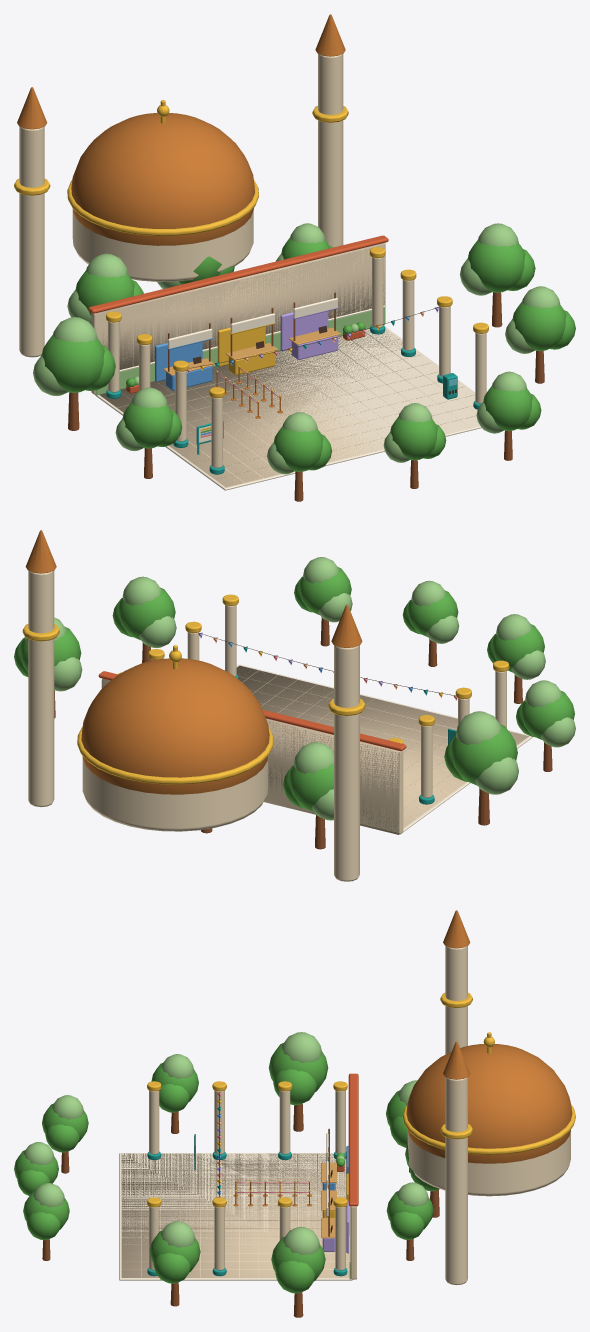
File: shas_foyer.glb
The picture shows the model from 3 angles, top to bottom: view 1: azimuth 30°, elevation 25°; view 2: azimuth 150°, elevation 25°; view 3: azimuth 270°, elevation 25°; orthographic projection. The views are drawn at different scales.
Visible parts, largest first — view 1: Dome.001, Floor.001, Floor-colonly.001, WallBack.001, WallBack-colonly.001, Minaret0.001, DomeDrum.001, Minaret1.001, Tree9Leaf0.007, WallBackCap, Tree7Leaf0.007, Tree6Leaf0.007 (+26 smaller); view 2: Dome.001, Floor-colonly.001, DomeDrum.001, Minaret1.001, Minaret0.001, WallBack.001, WallBack-colonly.001, Tree9Leaf0.007, DomeRing, Tree6Leaf0.007, Tree0Leaf0.007, Tree8Leaf0.007 (+26 smaller); view 3: Floor-colonly.001, Floor.001, Dome.001, DomeDrum.001, Minaret1.001, Minaret0.001, WallBackCap, DomeRing, Tree9Leaf0.007, Tree7Leaf2.007, Tree9Leaf2.007, Tree9Leaf3.007 (+29 smaller).
Boxes of the visible parts, x1,y1,x2,y2 form: Dome.001: [71, 113, 254, 245]; Floor.001: [95, 326, 481, 490]; Floor-colonly.001: [99, 329, 404, 487]; WallBack.001: [91, 243, 385, 394]; WallBack-colonly.001: [95, 243, 384, 395]; Minaret0.001: [19, 126, 44, 357]; DomeDrum.001: [72, 209, 253, 281]; Minaret1.001: [318, 54, 343, 247]; Tree9Leaf0.007: [41, 335, 104, 392]; WallBackCap: [88, 235, 388, 313]; Tree7Leaf0.007: [467, 240, 525, 292]; Tree6Leaf0.007: [512, 302, 566, 351]; Dome.001: [81, 658, 269, 794]; Floor-colonly.001: [236, 665, 528, 827]; DomeDrum.001: [82, 756, 268, 831]; Minaret1.001: [28, 570, 54, 807]; Minaret0.001: [334, 645, 359, 881]; WallBack.001: [101, 678, 403, 834]; WallBack-colonly.001: [102, 678, 398, 834]; Tree9Leaf0.007: [450, 724, 517, 785]; DomeRing: [77, 727, 273, 784]; Tree6Leaf0.007: [118, 587, 175, 640]; Tree0Leaf0.007: [288, 763, 333, 811]; Tree8Leaf0.007: [520, 690, 574, 739]; Floor-colonly.001: [121, 1153, 349, 1277]; Floor.001: [119, 1153, 352, 1280]; Dome.001: [406, 1044, 572, 1163]; DomeDrum.001: [407, 1130, 570, 1196]; Minaret1.001: [445, 1077, 467, 1285]; Minaret0.001: [445, 946, 467, 1054]; WallBackCap: [348, 1073, 358, 1206]; DomeRing: [402, 1104, 575, 1154]; Tree9Leaf0.007: [268, 1043, 328, 1091]; Tree7Leaf2.007: [275, 1260, 315, 1293]; Tree9Leaf2.007: [273, 1069, 316, 1105]; Tree9Leaf3.007: [281, 1032, 322, 1062].
Size of what is drawn, in the model's own units: 31.3 by 16.32 by 34.38.
